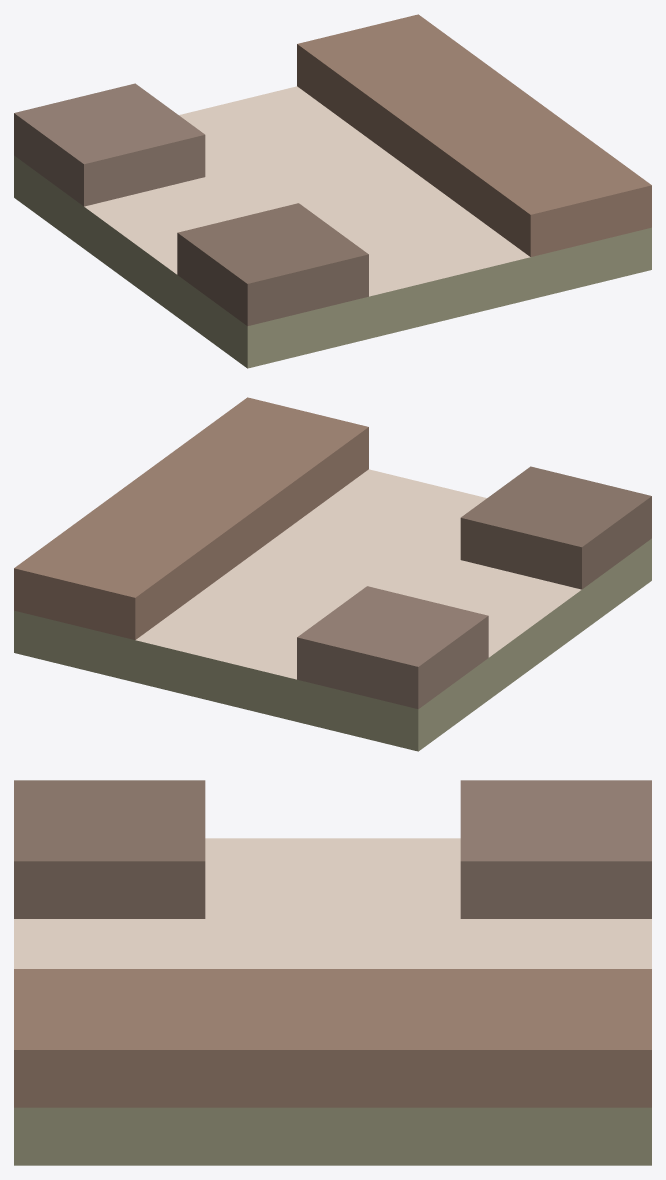
The model's file is oTile.glb.
3 renders of one model, top to bottom at view 1: azimuth 30°, elevation 25°; view 2: azimuth 150°, elevation 25°; view 3: azimuth 270°, elevation 25°, orthographic. The views are drawn at different scales.
Parts seen in each view (by area): view 1: flor_tile; view 2: flor_tile; view 3: flor_tile.
Boxes of the visible parts, x1,y1,x2,y2 form: flor_tile: [14, 14, 651, 368]; flor_tile: [14, 397, 651, 751]; flor_tile: [14, 780, 651, 1165].
Size of the model in its own units: 2 by 0.4 by 2.
